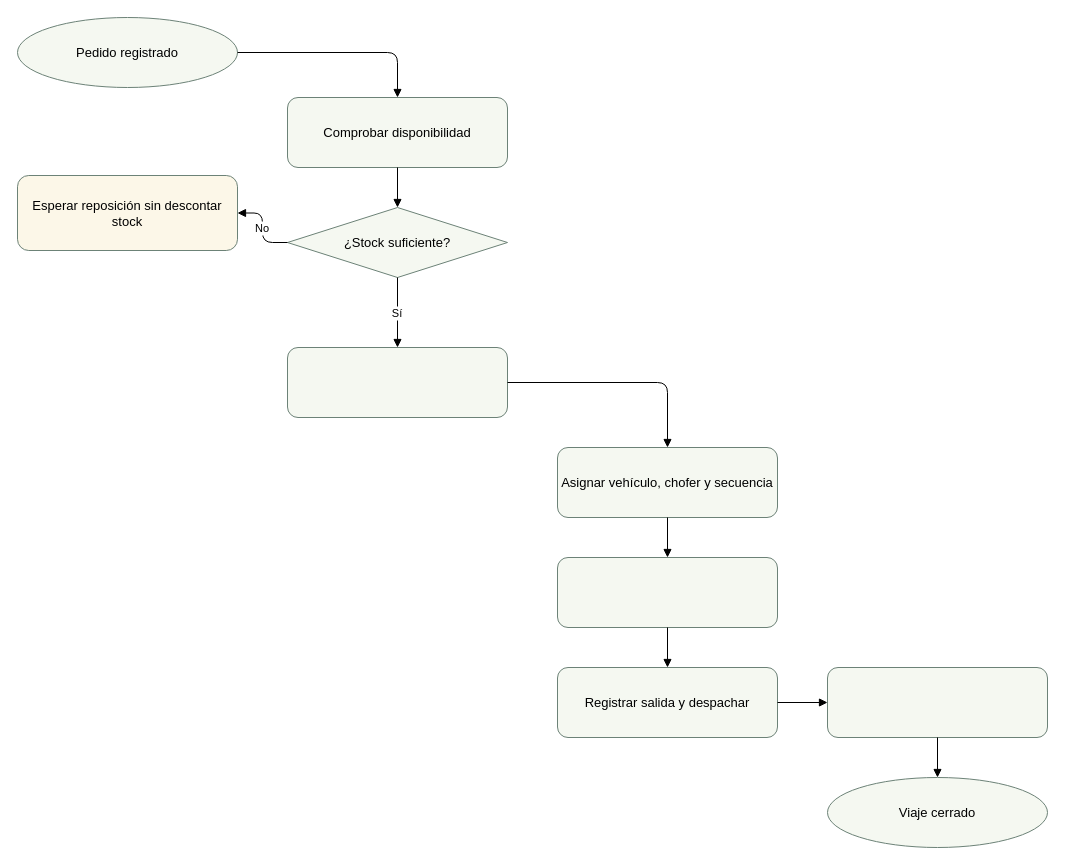
Image size: 1065x865. Some labels were removed from this diagram. Each missing label, with the centre of its shape:
"Controlar carga y licencia" goes at (x=667, y=592).
"Preparar pedido y registrar egresos" goes at (x=397, y=382).
"Registrar entrega o rechazo" goes at (x=937, y=702).
